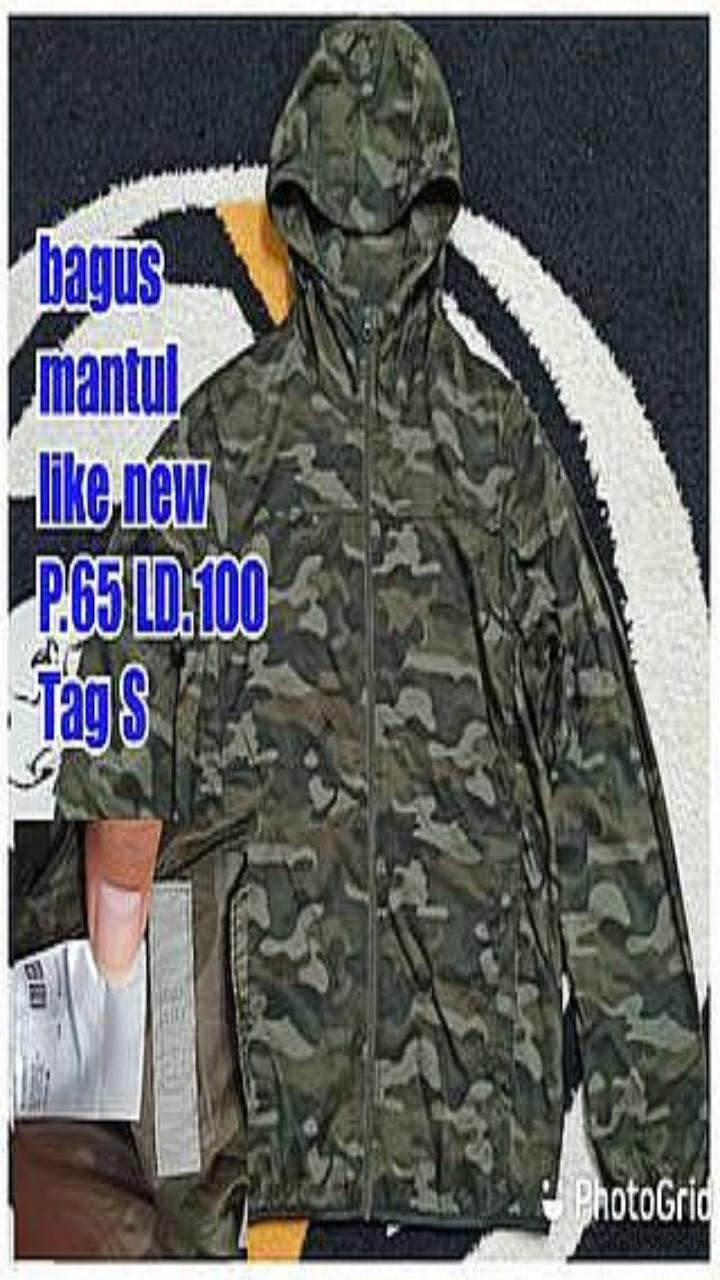Sports_Jacket: (58, 19, 705, 1228)
